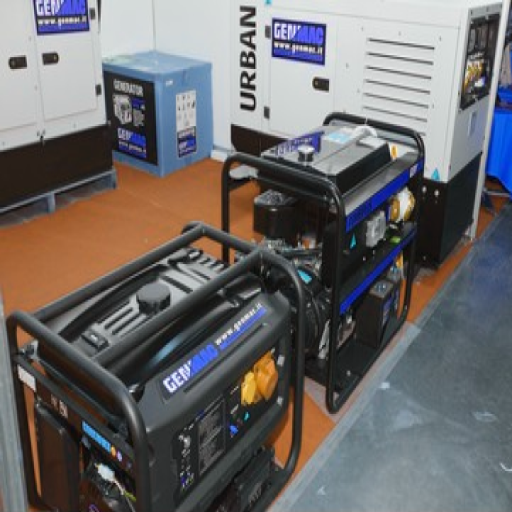portable_generator: (21, 228, 303, 512), (222, 113, 426, 389)
